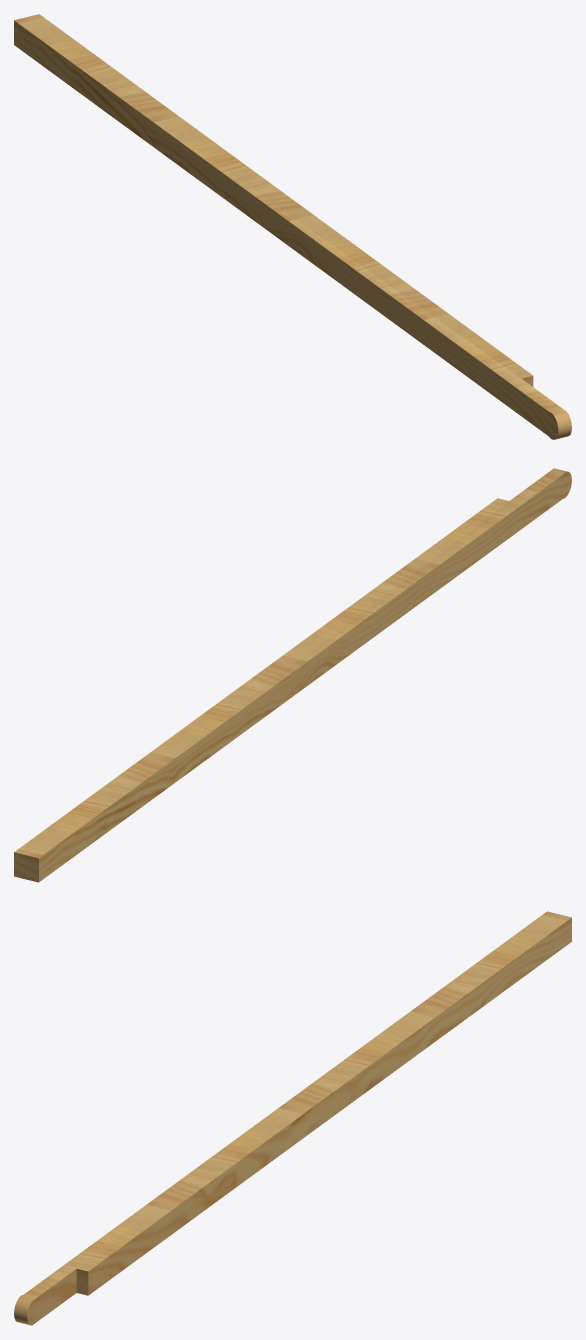
File: original-26.obj
3 renders of one model, top to bottom at view 1: azimuth 30°, elevation 25°; view 2: azimuth 150°, elevation 25°; view 3: azimuth 330°, elevation 25°, orthographic. The views are drawn at different scales.
Parts seen in each view (by area): view 1: Drawer_Runner__Center3/Drawer_Runner__Center12/mesh64/mesh64-geo; view 2: Drawer_Runner__Center3/Drawer_Runner__Center12/mesh64/mesh64-geo; view 3: Drawer_Runner__Center3/Drawer_Runner__Center12/mesh64/mesh64-geo.
Part boxes in pixels (x1,y1,x2,y2): Drawer_Runner__Center3/Drawer_Runner__Center12/mesh64/mesh64-geo: (14,14,571,439); Drawer_Runner__Center3/Drawer_Runner__Center12/mesh64/mesh64-geo: (14,468,571,882); Drawer_Runner__Center3/Drawer_Runner__Center12/mesh64/mesh64-geo: (14,911,571,1325).
Size of the model in its own units: 0.0139 by 0.0137 by 0.5166.
1 material, 1 textured.
